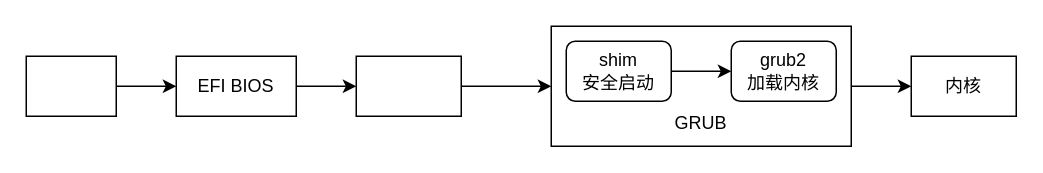
The diagram is 1043 pixels wide and 173 high, and some of its shapes have lost their labels. The box of each missing label's shape, as (x1, y1, x2, y2) in pixels:
EFI系统: (355, 55, 461, 116)
开机: (25, 55, 116, 116)
